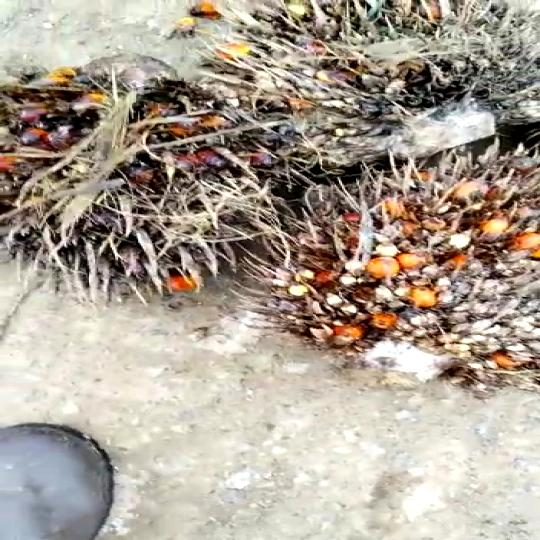terlalu masak: (0, 58, 326, 289)
